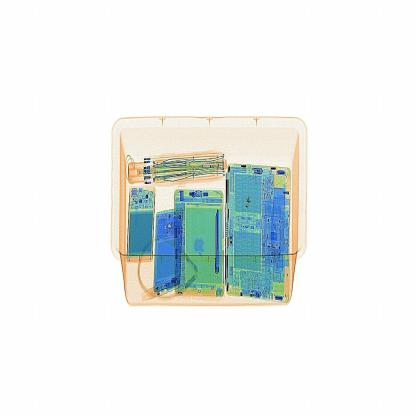pliers: (208, 202, 225, 282)
